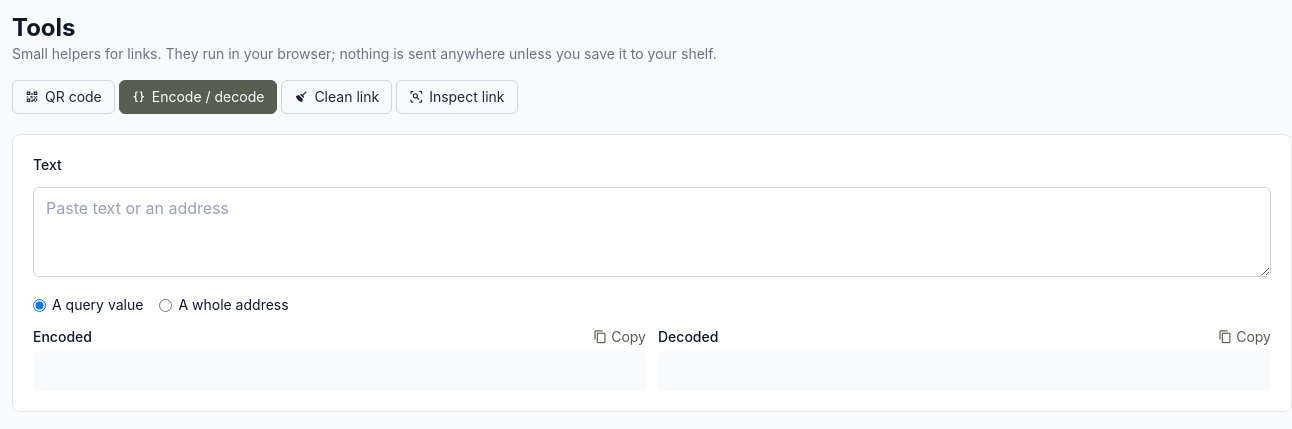
Test: ToolsView › encodes and decodes as you type
Step 1. Type "a b/c" into the text box with test id "code-input" → (652, 232), box [33,187,1271,277]
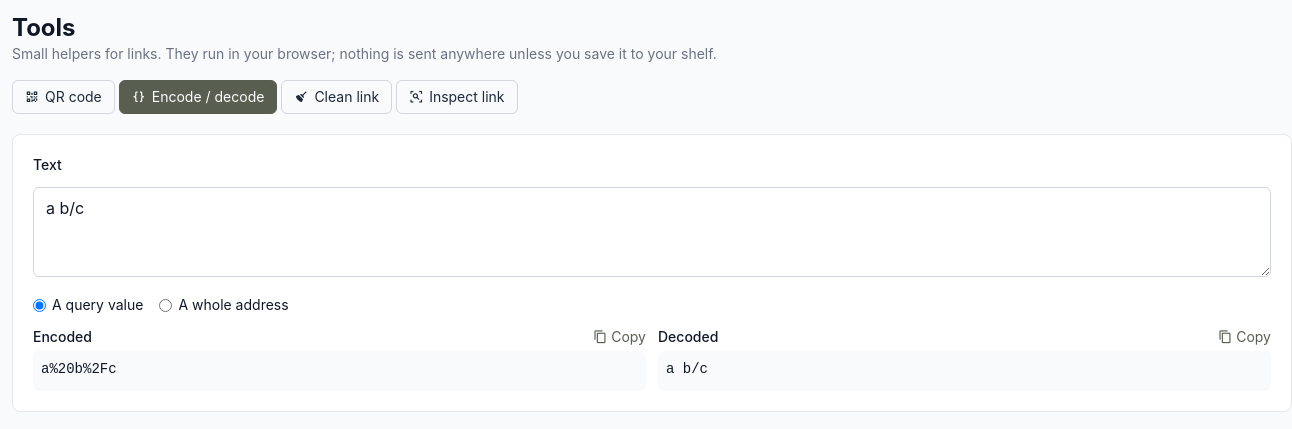
Check: the text with test id "code-encoded" reads "a%20b%2Fc", box [41,361,117,377]
Step 2. Click the radio button with test id "code-mode-url" → (166, 305), box [159,298,172,312]
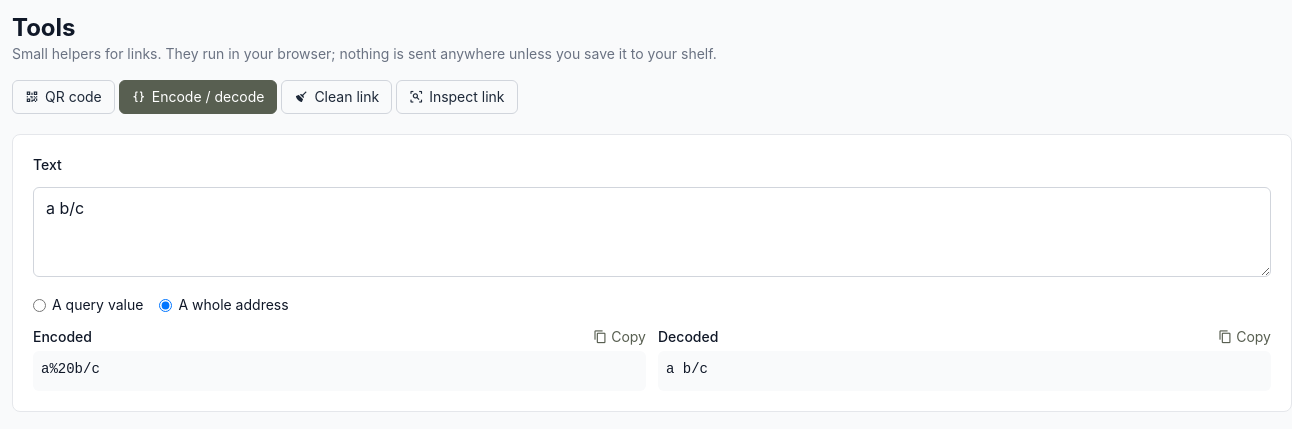
Check: the text with test id "code-encoded" reads "a%20b/c", box [41,361,100,377]
Step 3. Replace the text in the text box with test id "code-input" with "50%" → (652, 232), box [33,187,1271,277]
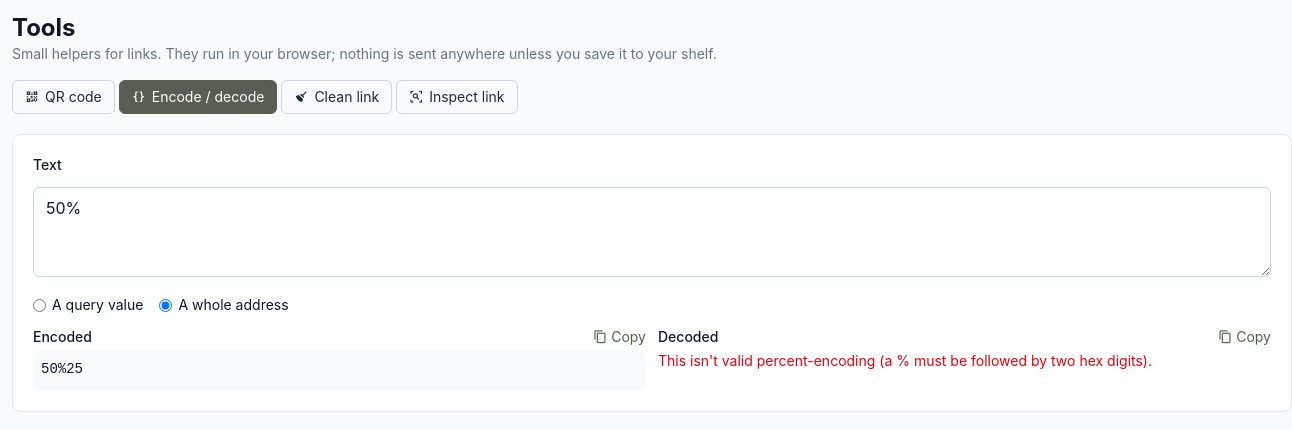
Check: the text with test id "code-error" is shown, box [658,352,1152,369]
